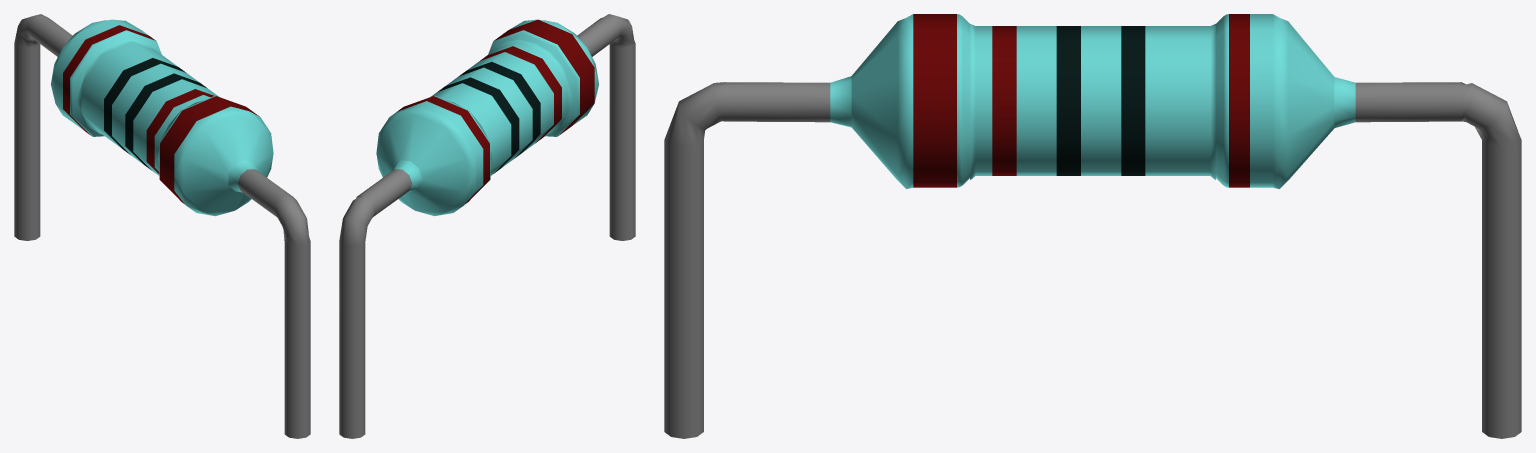
Rendered from Widerstand 1.obj.
The picture shows the model from 3 angles, left to right: view 1: azimuth 30°, elevation 25°; view 2: azimuth 150°, elevation 25°; view 3: azimuth 270°, elevation 25°; orthographic projection. The views are drawn at different scales.
Parts seen in each view (by area): view 1: Volumenkörper1; view 2: Volumenkörper1; view 3: Volumenkörper1.
Part boxes in pixels (<box>): Volumenkörper1: <box>14,14,310,438</box>; Volumenkörper1: <box>339,14,635,438</box>; Volumenkörper1: <box>664,14,1521,438</box>.
Size of the model in its own units: 2.18 by 5.58 by 10.65.
